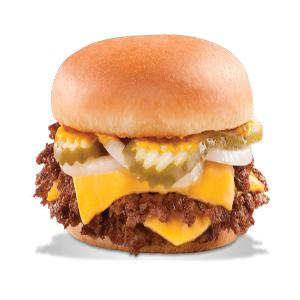cheeseburger_475cal: (29, 26, 276, 260)
